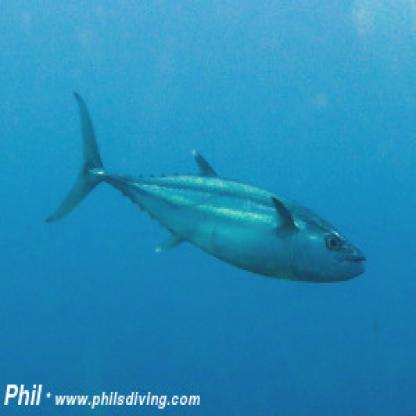tuna: (37, 85, 382, 290)
